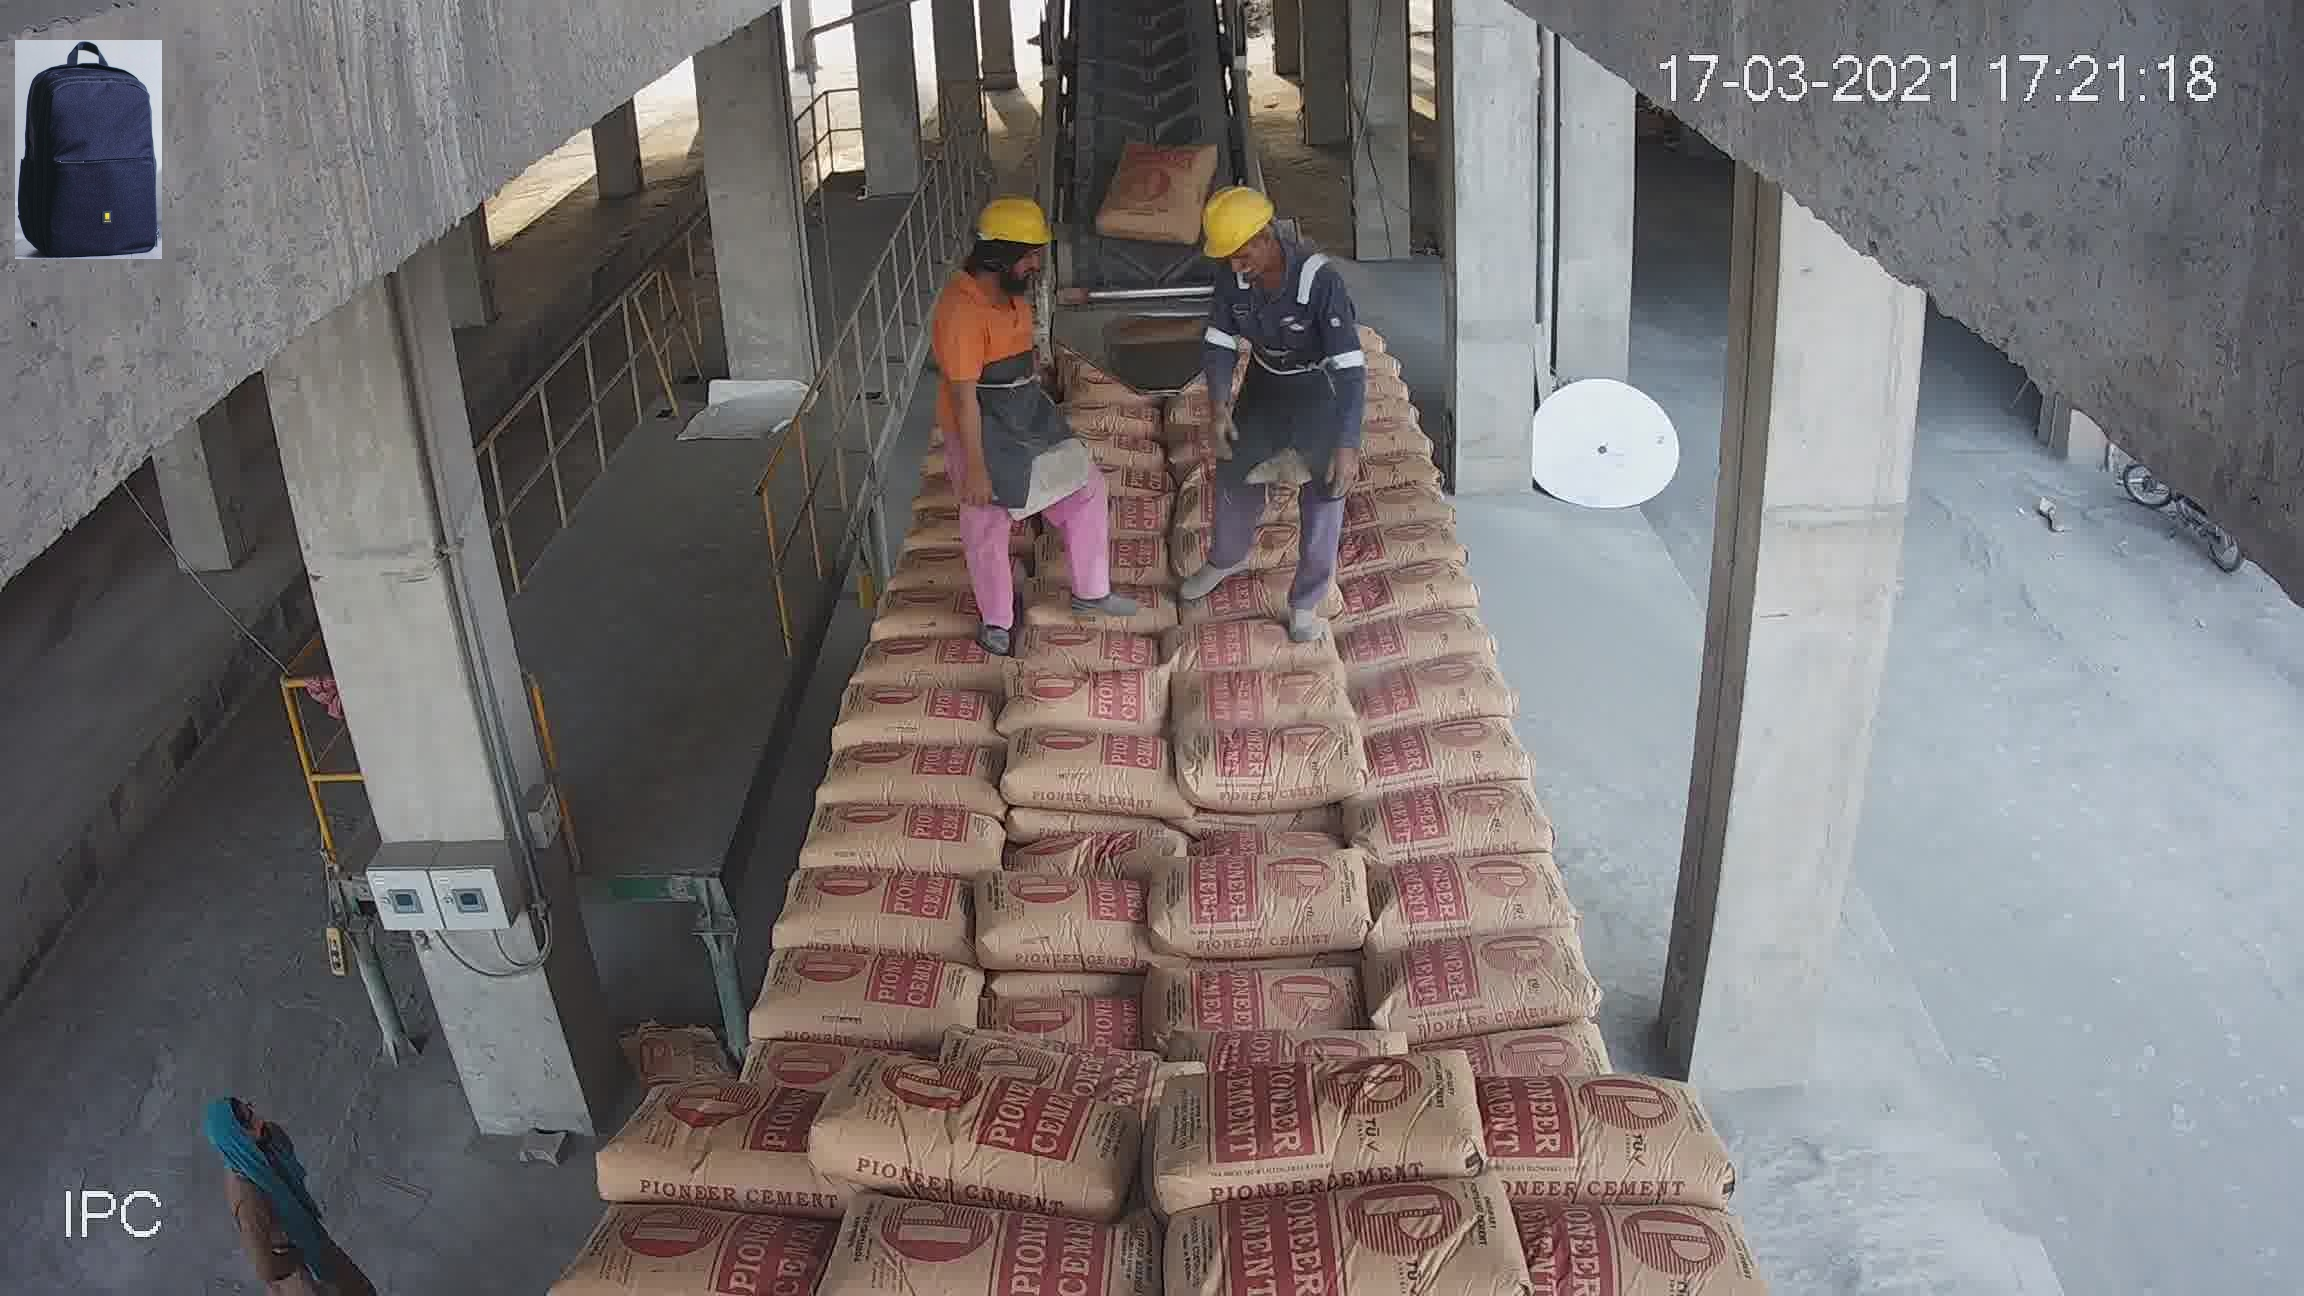bag_h: (1154, 1043, 1483, 1212), (635, 938, 934, 1089), (1154, 1173, 1525, 1291), (1130, 930, 1438, 1068), (831, 1097, 1166, 1203), (1141, 836, 1454, 945), (869, 951, 1139, 1073), (1127, 725, 1396, 840), (589, 1082, 824, 1212), (804, 1201, 1158, 1283), (668, 855, 911, 968), (1499, 1074, 1723, 1192), (902, 741, 1146, 847), (1454, 972, 1696, 1074), (1432, 853, 1635, 975), (902, 851, 1166, 945), (1393, 766, 1608, 859), (1494, 1215, 1787, 1279), (567, 1196, 790, 1279), (728, 786, 907, 878), (1017, 661, 1174, 725), (1388, 658, 1513, 731), (1033, 711, 1192, 760), (1011, 623, 1174, 668), (775, 731, 897, 790), (1405, 729, 1537, 783), (1048, 578, 1179, 628), (1187, 565, 1272, 642), (1048, 533, 1171, 582), (1204, 516, 1291, 582)
belt: (1030, 24, 1279, 470)
